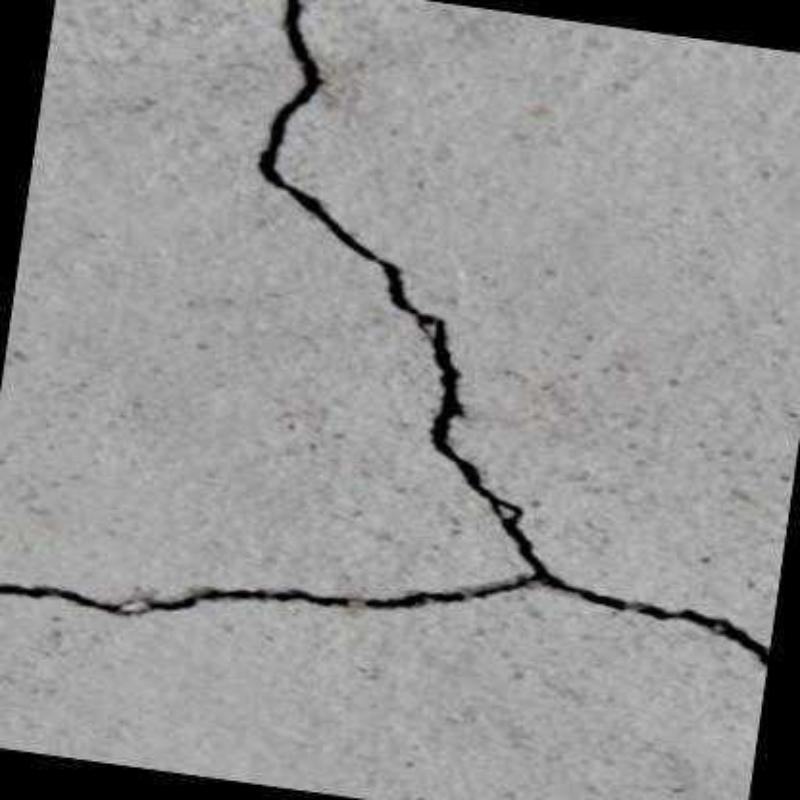crack: (0, 0, 770, 672)
